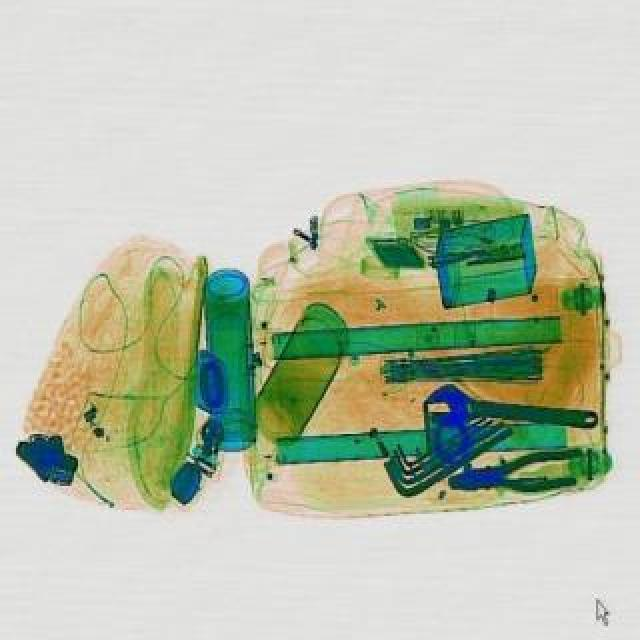scissors: (422, 380, 598, 436)
wrench: (446, 444, 586, 500)
